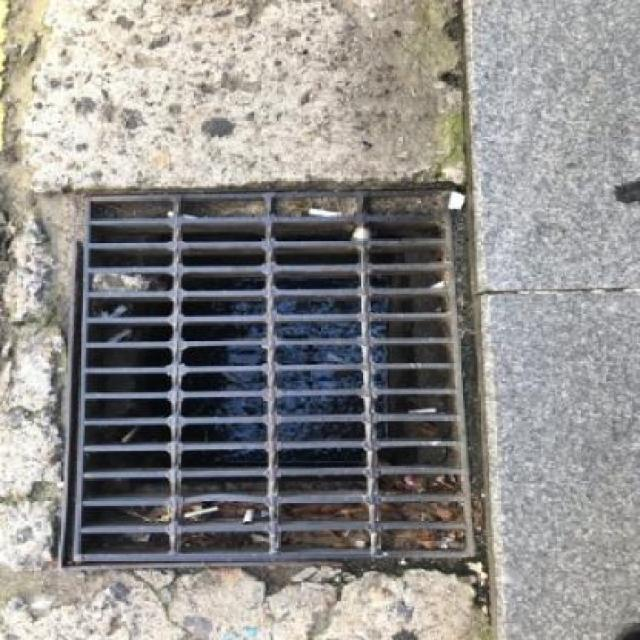Drain Hole: (67, 159, 491, 615)
